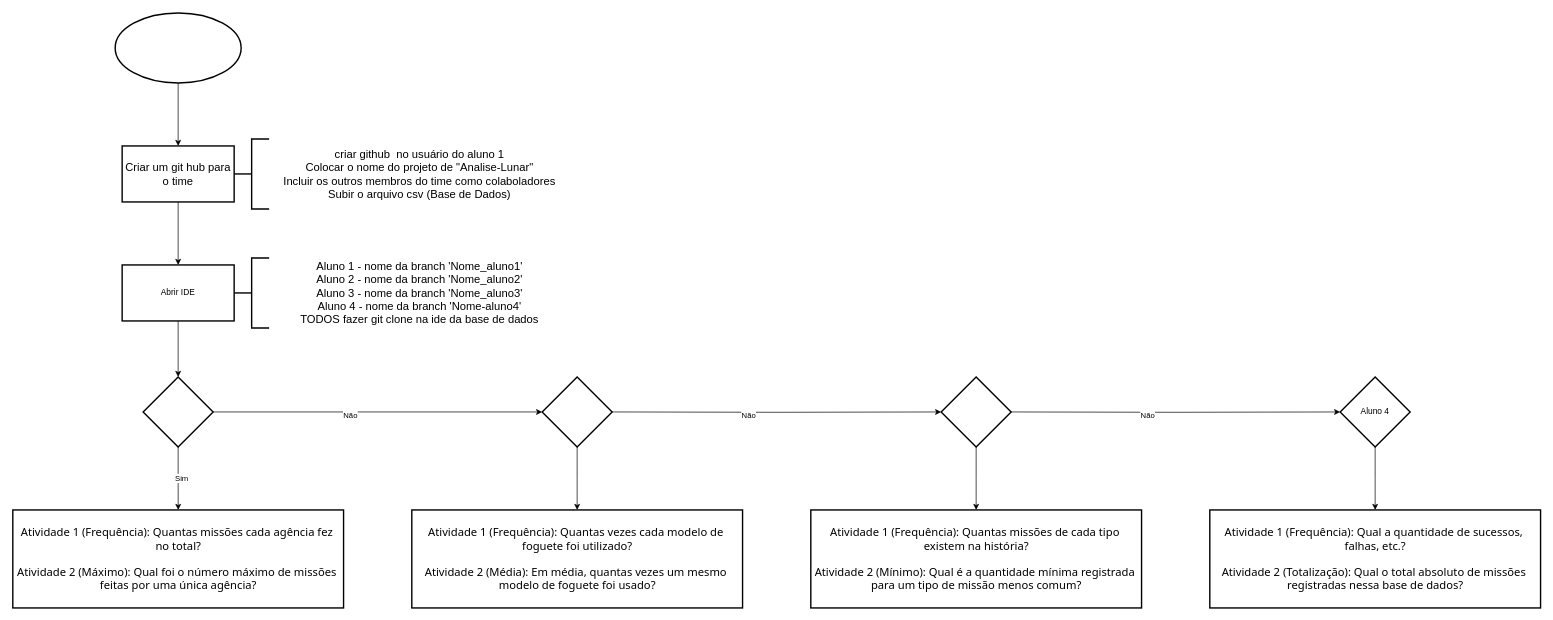
This 1553x620 diagram has some shape labels left out. Here are the shapes that lost their labels. From the top down, the box of each, then its label:
(114, 12, 241, 83): Inicio do projeto
(142, 376, 214, 447): Aluno 1
(541, 376, 612, 447): Aluno 2
(940, 376, 1011, 447): Aluno 3
